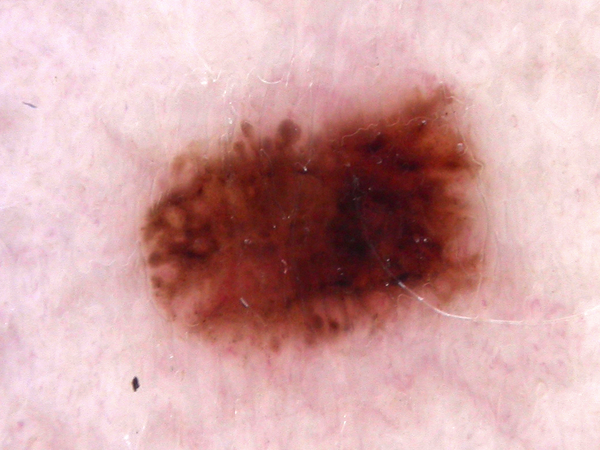Detected Lesion: (136, 74, 497, 358)
